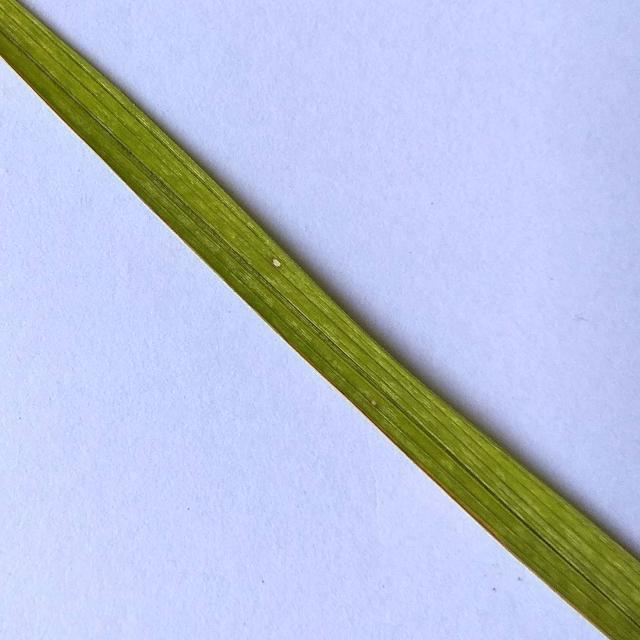Blast: (265, 255, 287, 274), (364, 396, 384, 414)
